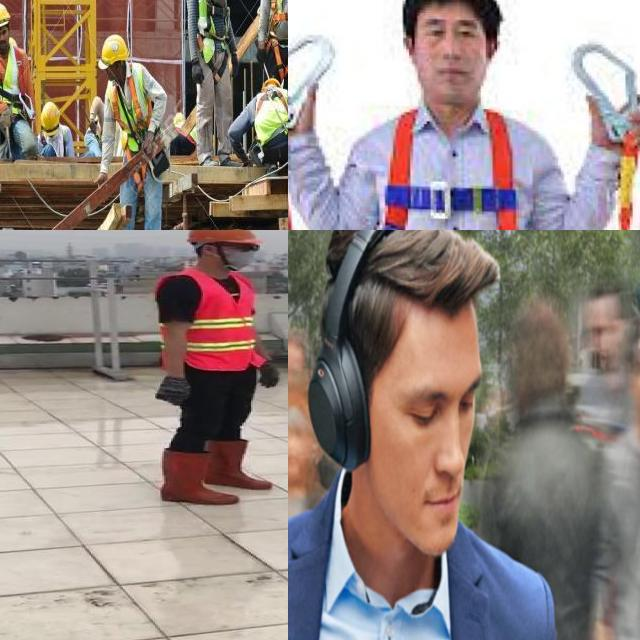Ear-protection: (304, 230, 502, 579)
Harness: (383, 105, 523, 230), (270, 0, 288, 34)
No_Glasses: (387, 349, 490, 452)
boots: (157, 450, 237, 504), (203, 431, 271, 489)
head_helmet: (182, 230, 264, 244)
person: (146, 230, 288, 504)
vest: (157, 270, 270, 367)
